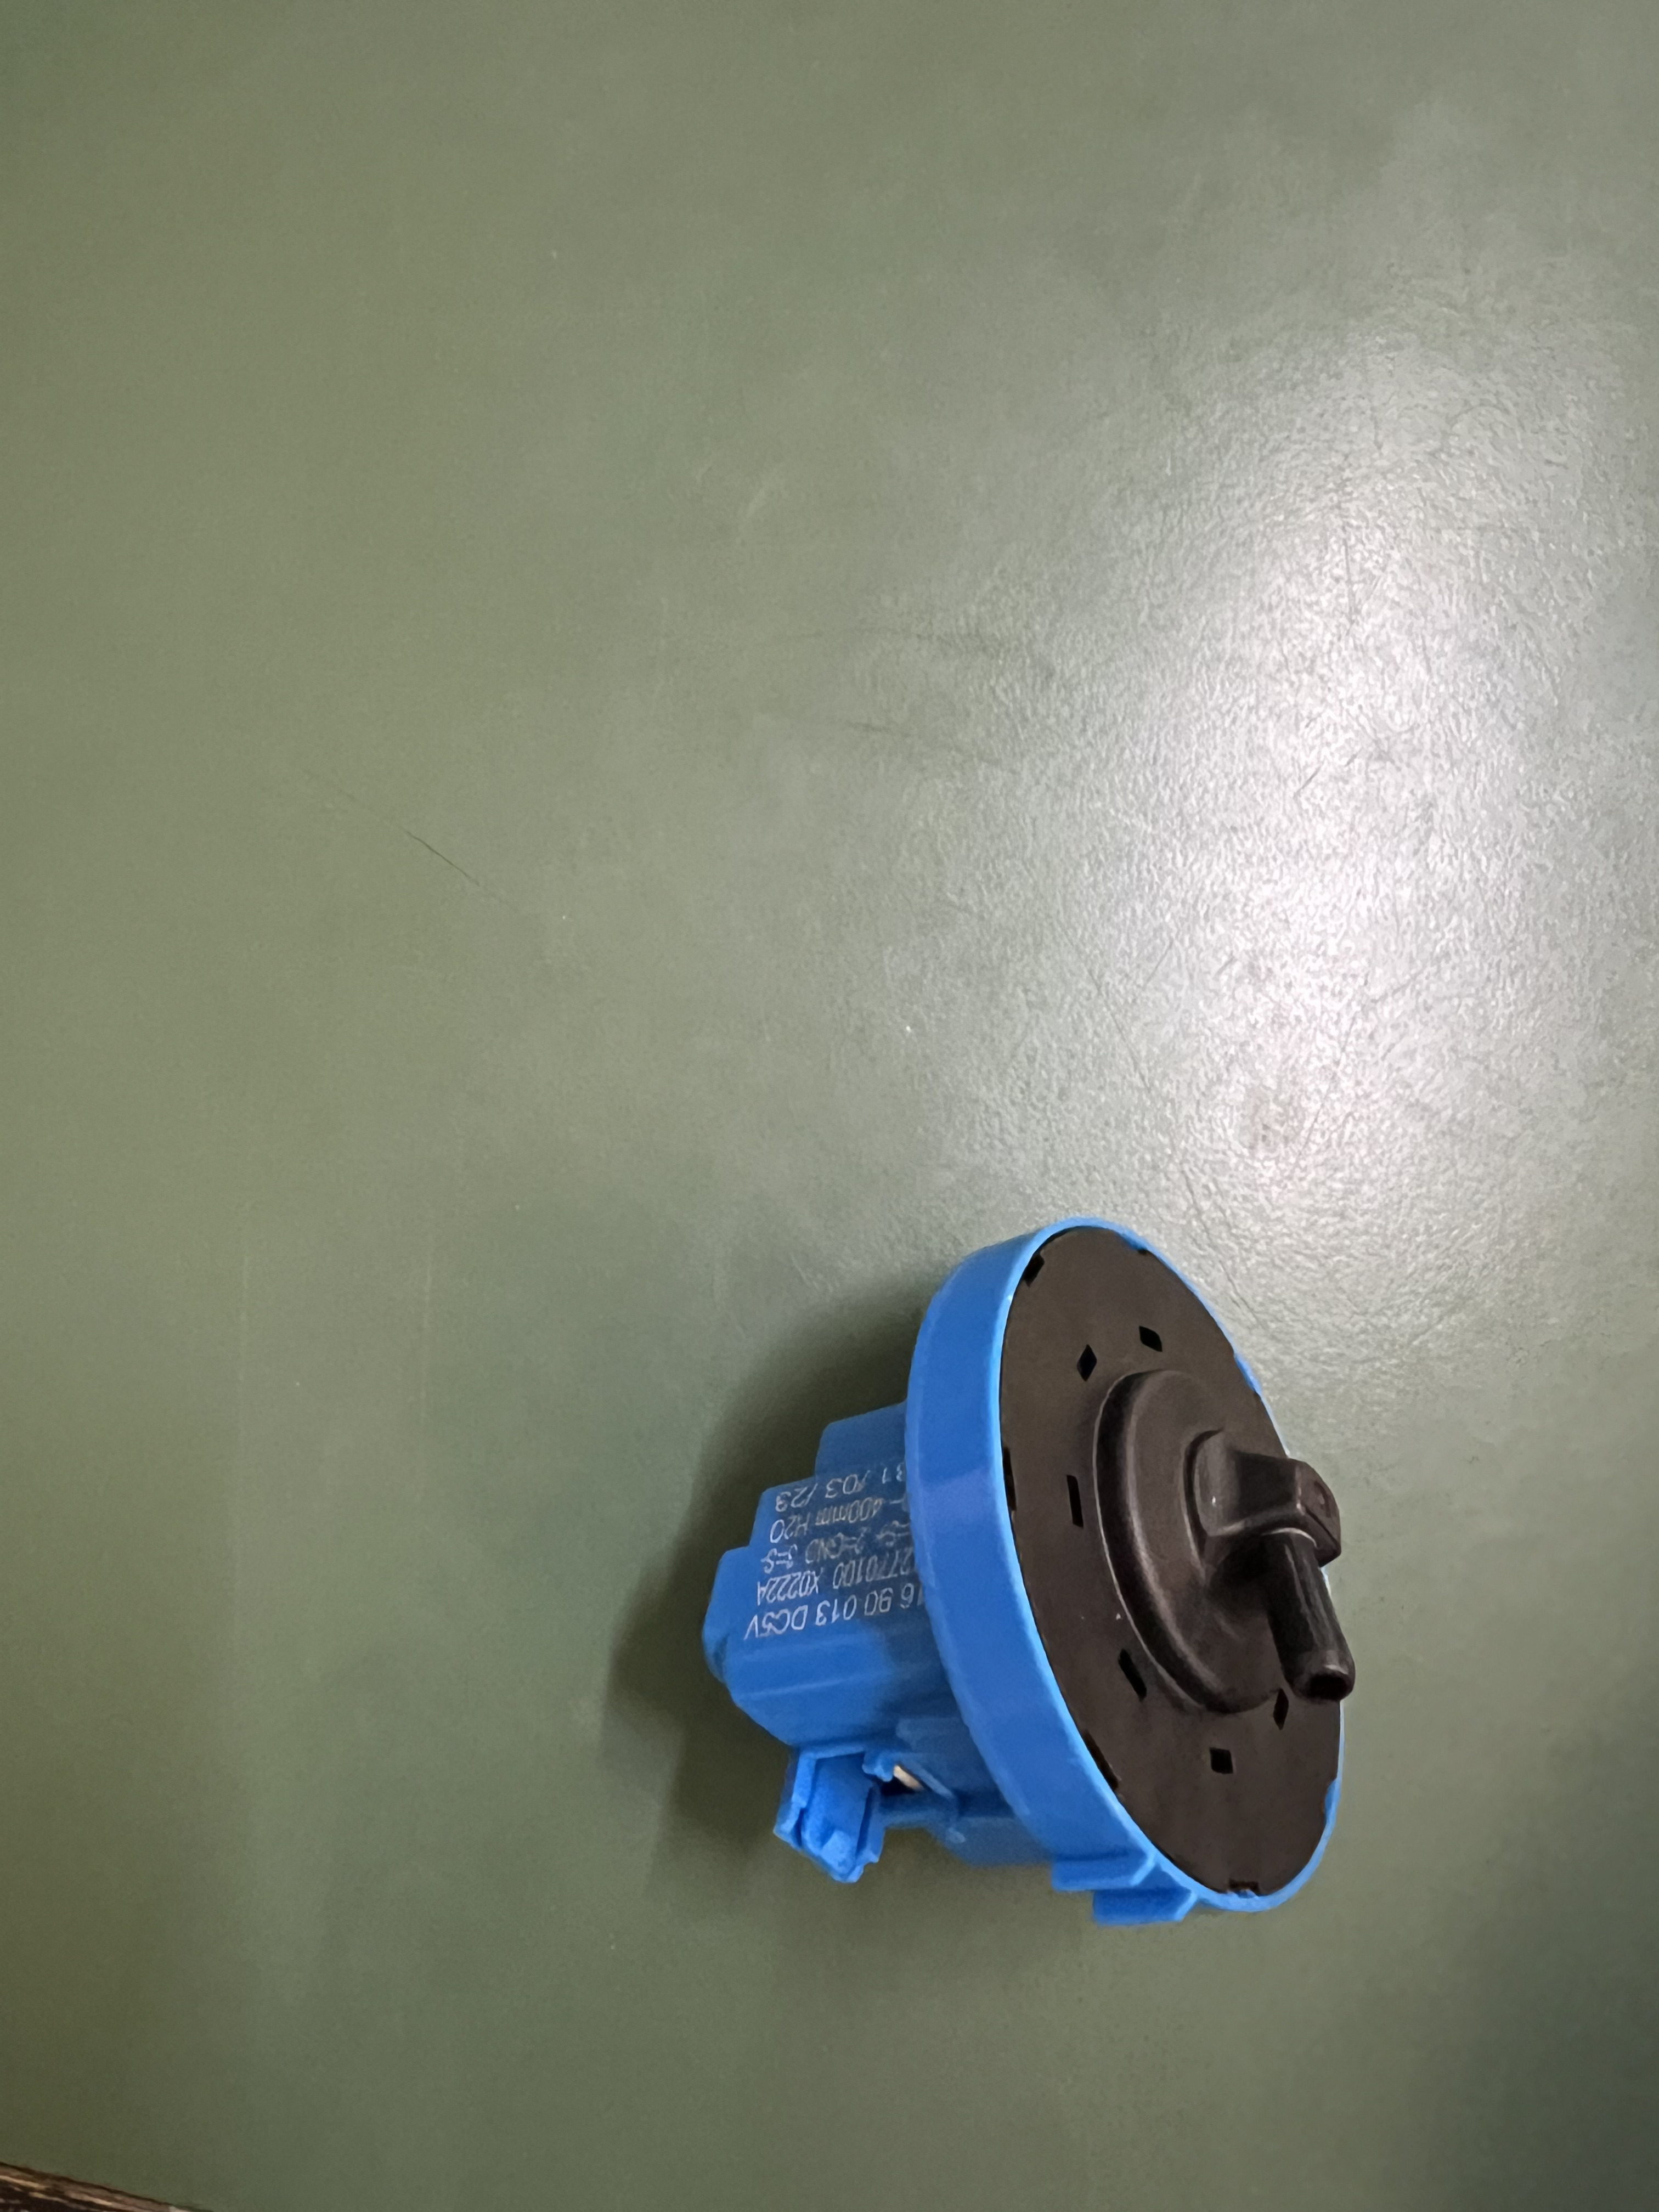voltas_beko_pressure_switch: (709, 1247, 1358, 1939)
